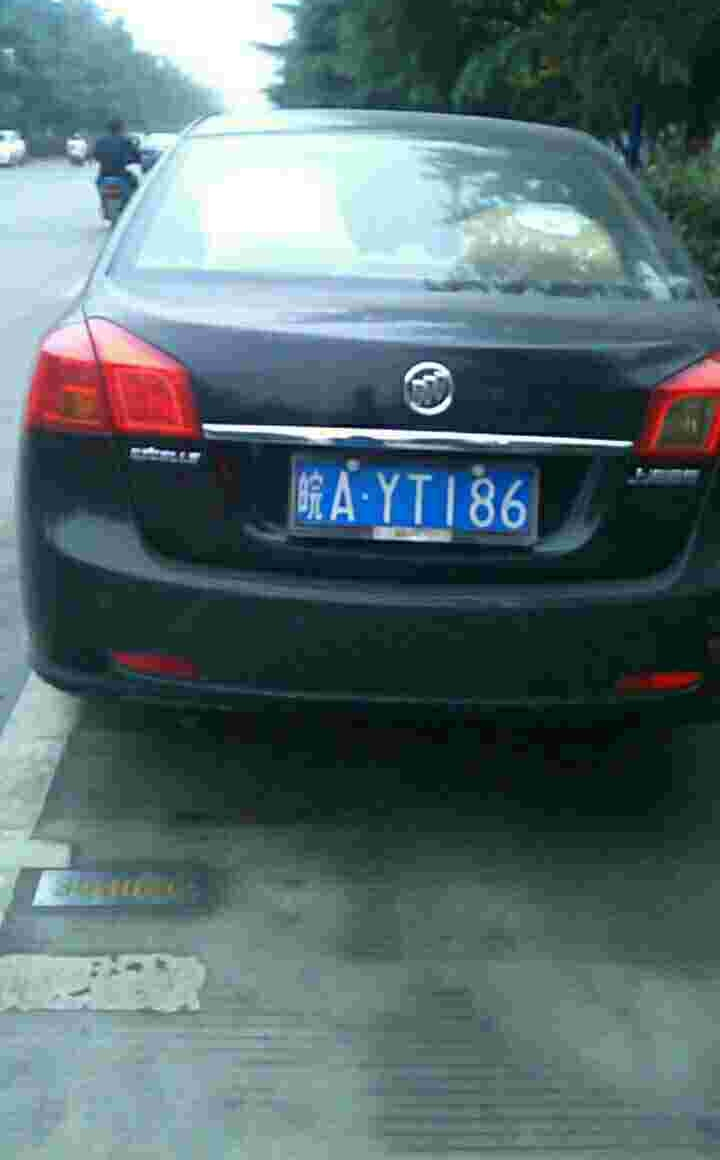license_plate: (301, 459, 532, 538)
